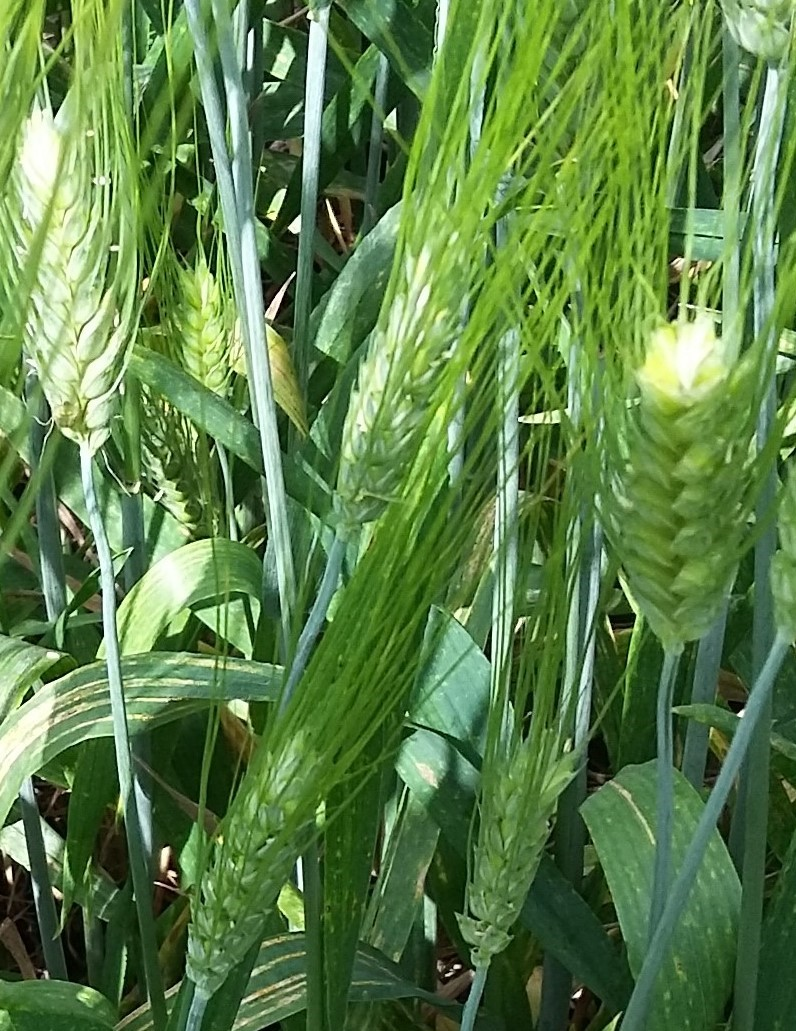Healthy Wheat: (584, 285, 742, 683), (10, 97, 150, 461), (191, 721, 359, 998), (334, 240, 480, 528), (446, 732, 571, 976)
